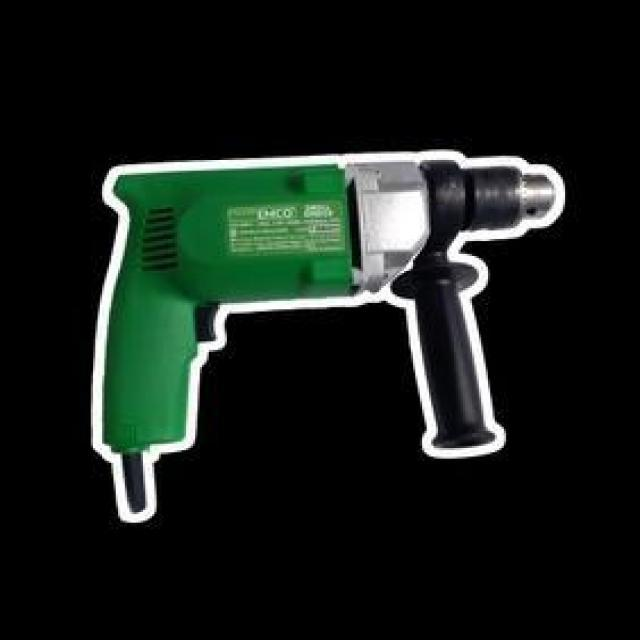drill: (100, 158, 560, 514)
